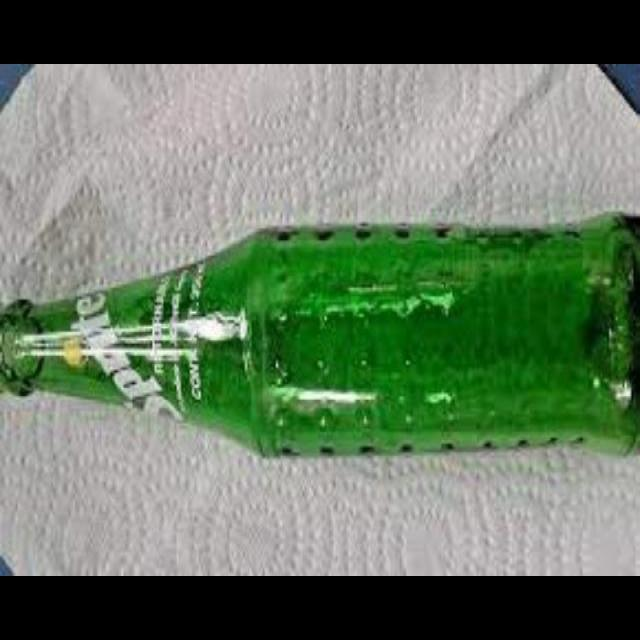Glass: (0, 210, 640, 460)
